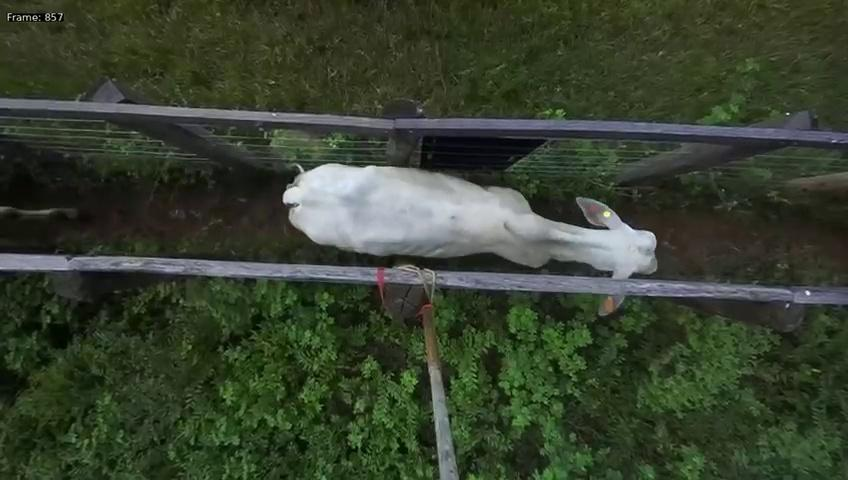cattle: (281, 124, 659, 320)
